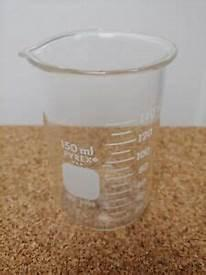Beaker: (20, 8, 178, 235)
